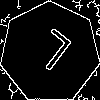L: (25, 27, 74, 80)
